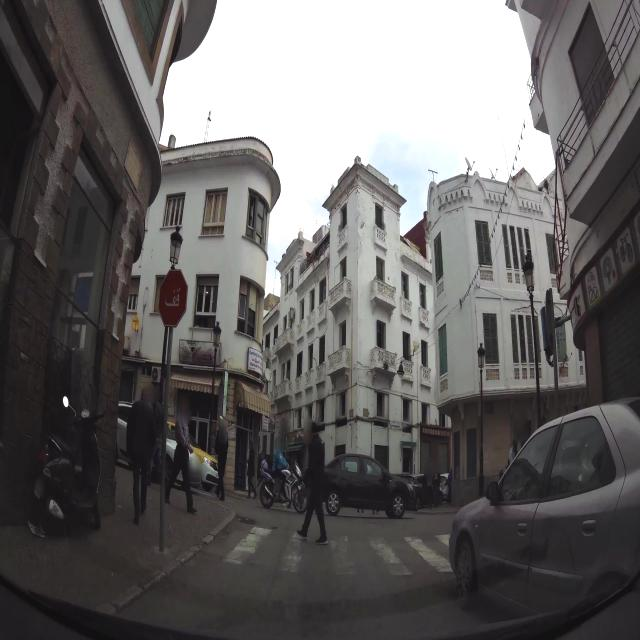bike: (26, 406, 102, 537), (259, 465, 300, 510)
car: (448, 397, 640, 624), (315, 452, 417, 519), (166, 429, 218, 491)
